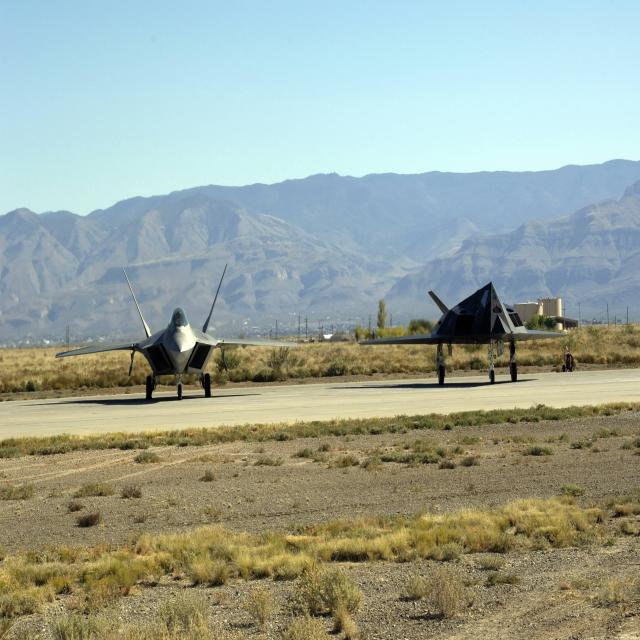MIL_Plane: (55, 263, 298, 400), (358, 281, 568, 385)
